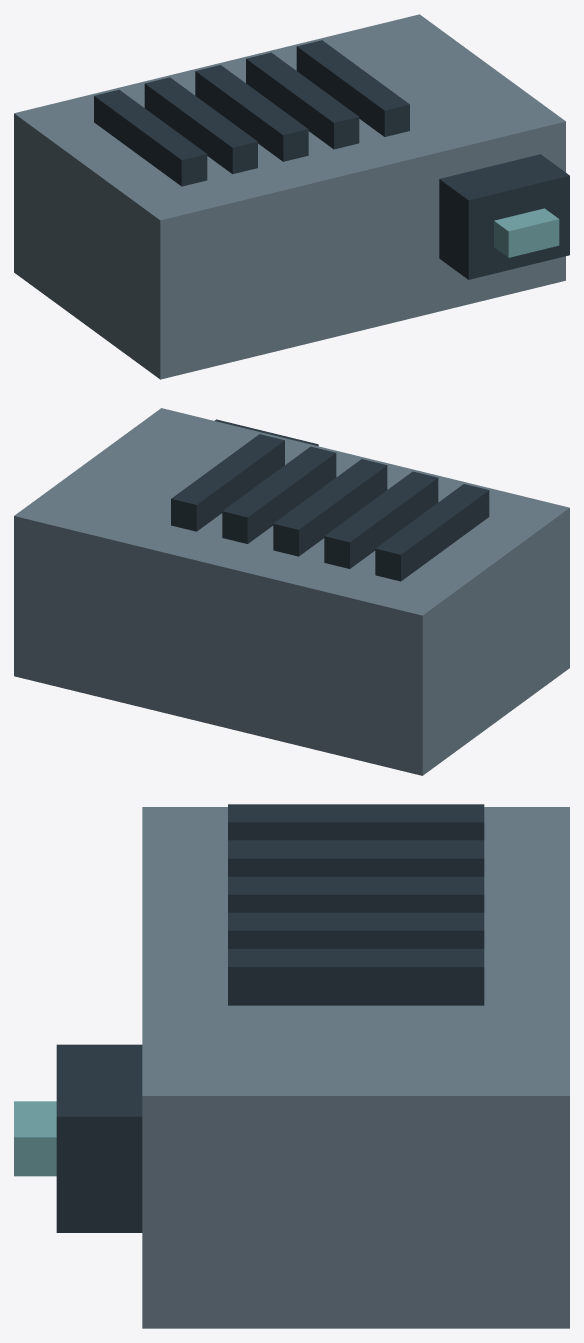
The model's file is film-04.glb.
3 renders of one model, top to bottom at view 1: azimuth 30°, elevation 25°; view 2: azimuth 150°, elevation 25°; view 3: azimuth 270°, elevation 25°, orthographic. The views are drawn at different scales.
Parts seen in each view (by area): view 1: Film projector; view 2: Film projector; view 3: Film projector.
Boxes of the visible parts, bbox=[...] form: Film projector: bbox=[14, 14, 569, 379]; Film projector: bbox=[14, 408, 569, 775]; Film projector: bbox=[14, 804, 569, 1328].
Bounding box in the file's own units: 1.28 × 0.56 × 1.04.
